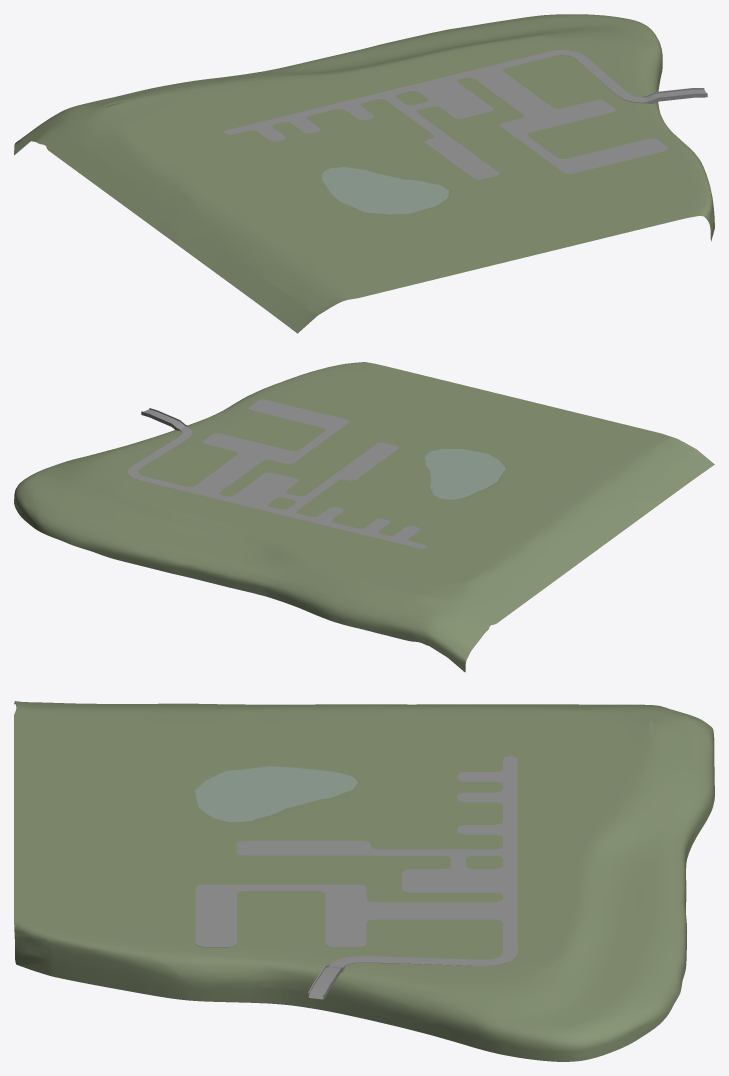
File: newmap.fbx
3 renders of one model, top to bottom at view 1: azimuth 30°, elevation 25°; view 2: azimuth 150°, elevation 25°; view 3: azimuth 270°, elevation 25°, orthographic. The views are drawn at different scales.
Parts seen in each view (by area): view 1: polySurface130, polySurface129, lake1, bridge1; view 2: polySurface130, polySurface129, lake1; view 3: polySurface130, polySurface129, lake1, bridge1.
Boxes of the visible parts, <box> form: polySurface130: <box>14,14,714,333</box>; polySurface129: <box>224,50,668,179</box>; lake1: <box>322,167,448,214</box>; bridge1: <box>643,88,707,103</box>; polySurface130: <box>14,362,714,672</box>; polySurface129: <box>128,399,427,548</box>; lake1: <box>424,449,505,499</box>; polySurface130: <box>14,701,714,1061</box>; polySurface129: <box>195,756,517,966</box>; lake1: <box>195,766,357,822</box>; bridge1: <box>308,963,344,999</box>.
Bounding box in the file's own units: 201 × 18.6 × 173.
